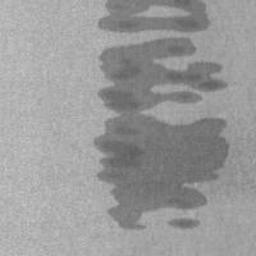Water spot: (92, 0, 232, 233), (166, 215, 202, 230)
